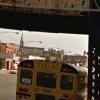buses: (15, 60, 84, 100)
